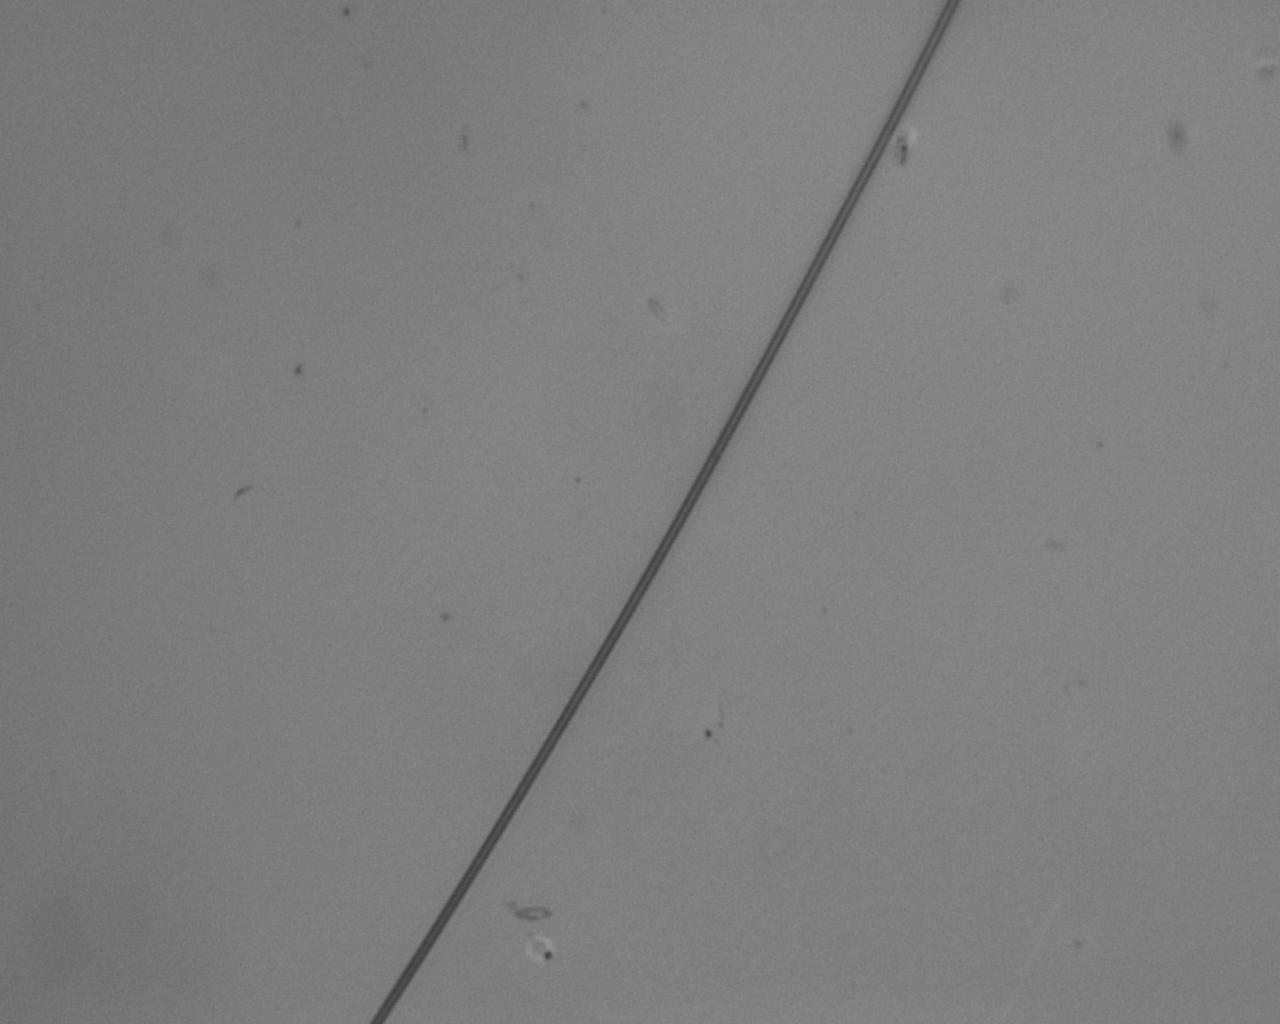fiber: (395, 0, 704, 568), (286, 624, 497, 1024), (704, 332, 1280, 373)
